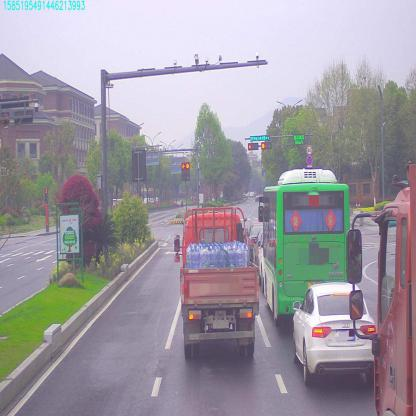traffic-light: (250, 135, 269, 142), (247, 143, 258, 149), (262, 144, 272, 150)
